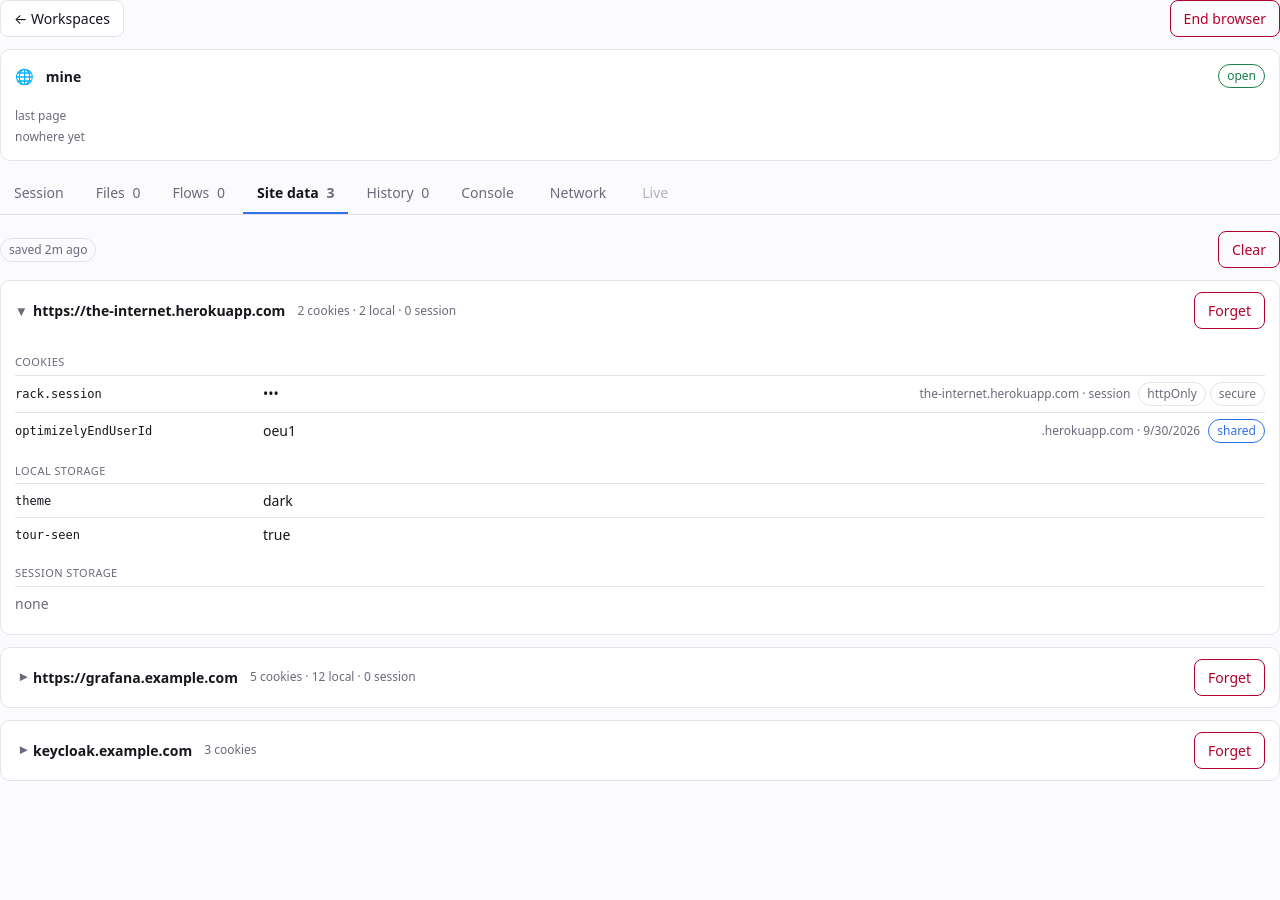
Scenario: after Forget the tab counts the reloaded payload, before any push
Expected: the text with id "siteDataTotal" reads "3", [326, 183, 334, 202]
Click the button "Forget" in the row of "2 cookies · 2 local · 0 session" at (1230, 310), box [1194, 292, 1265, 329]
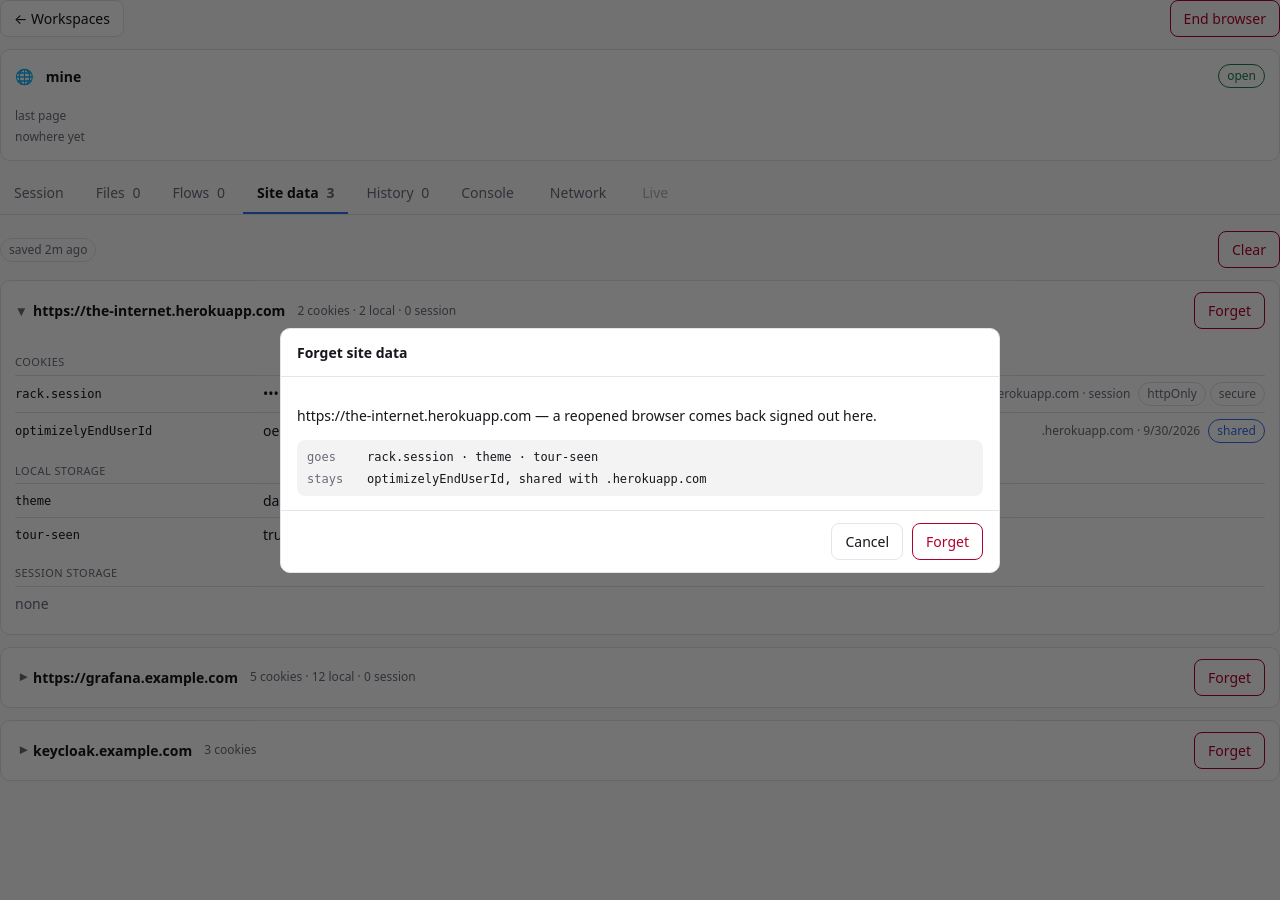
Click the button "Forget" at (948, 541), box [912, 522, 983, 560]
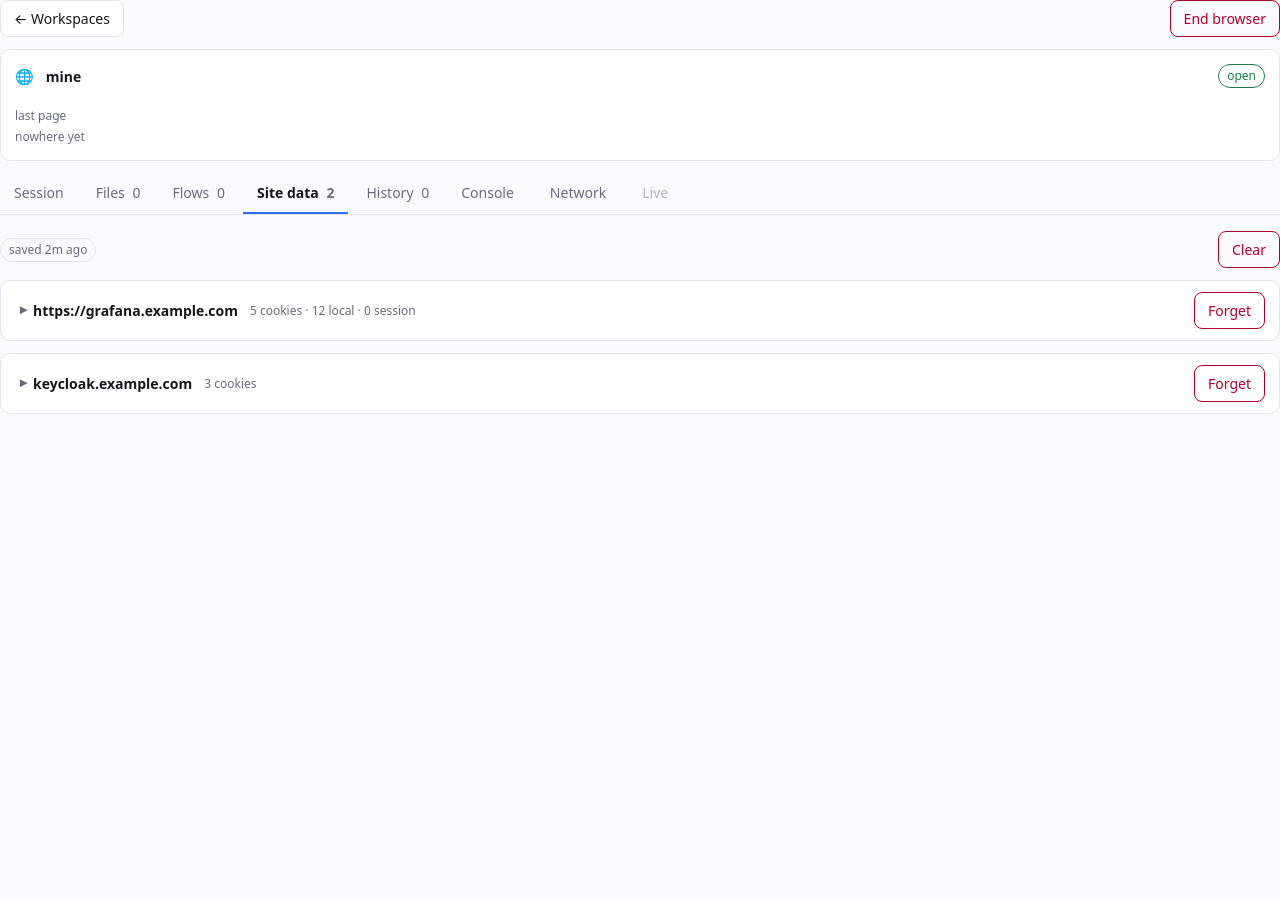
Expected: the text with id "siteDataTotal" reads "2", [326, 183, 334, 202]
